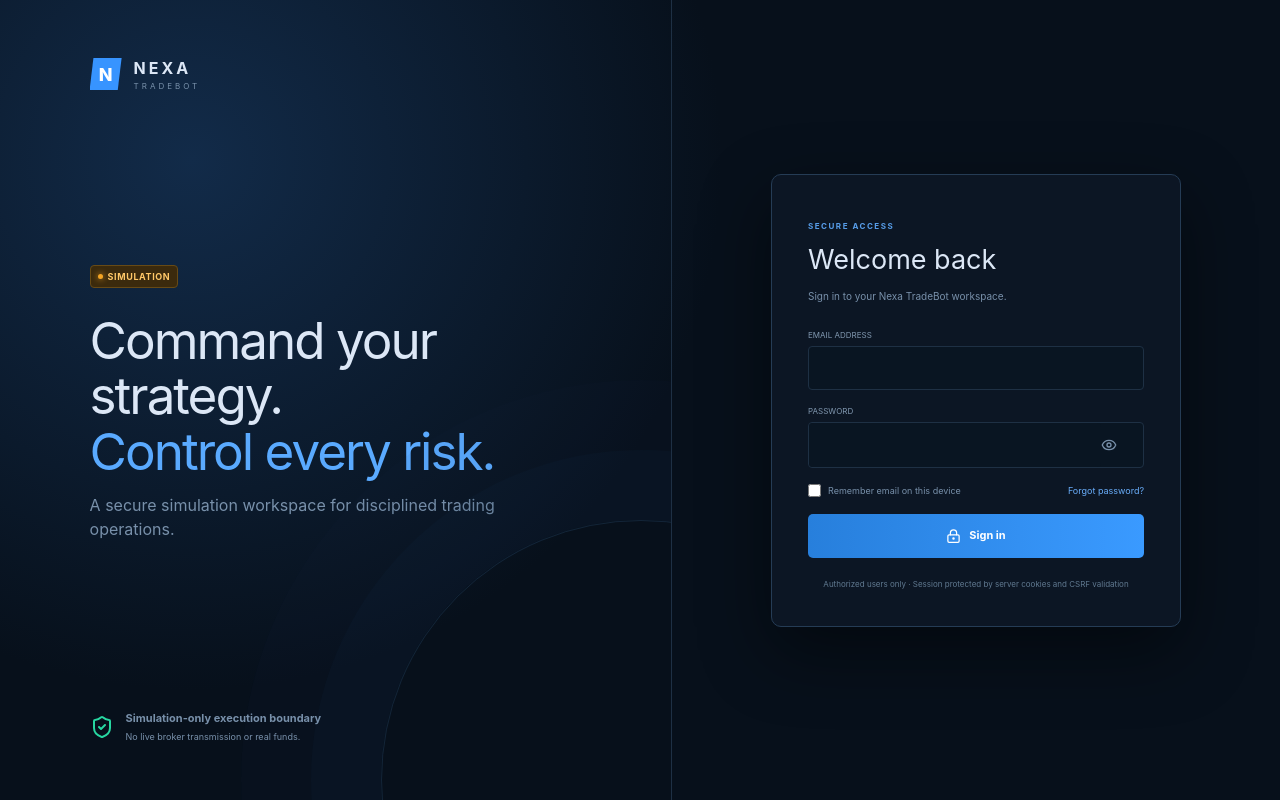
authentication routing › submits login credentials and renders backend validation errors
This screenshot has width=1280, height=800.
Expected: the heading "Welcome back" is shown, [808,242,996,276]
Type "wrong@nexa.local" into the field labelled "Email address" at (976, 368), box [808,346,1144,390]
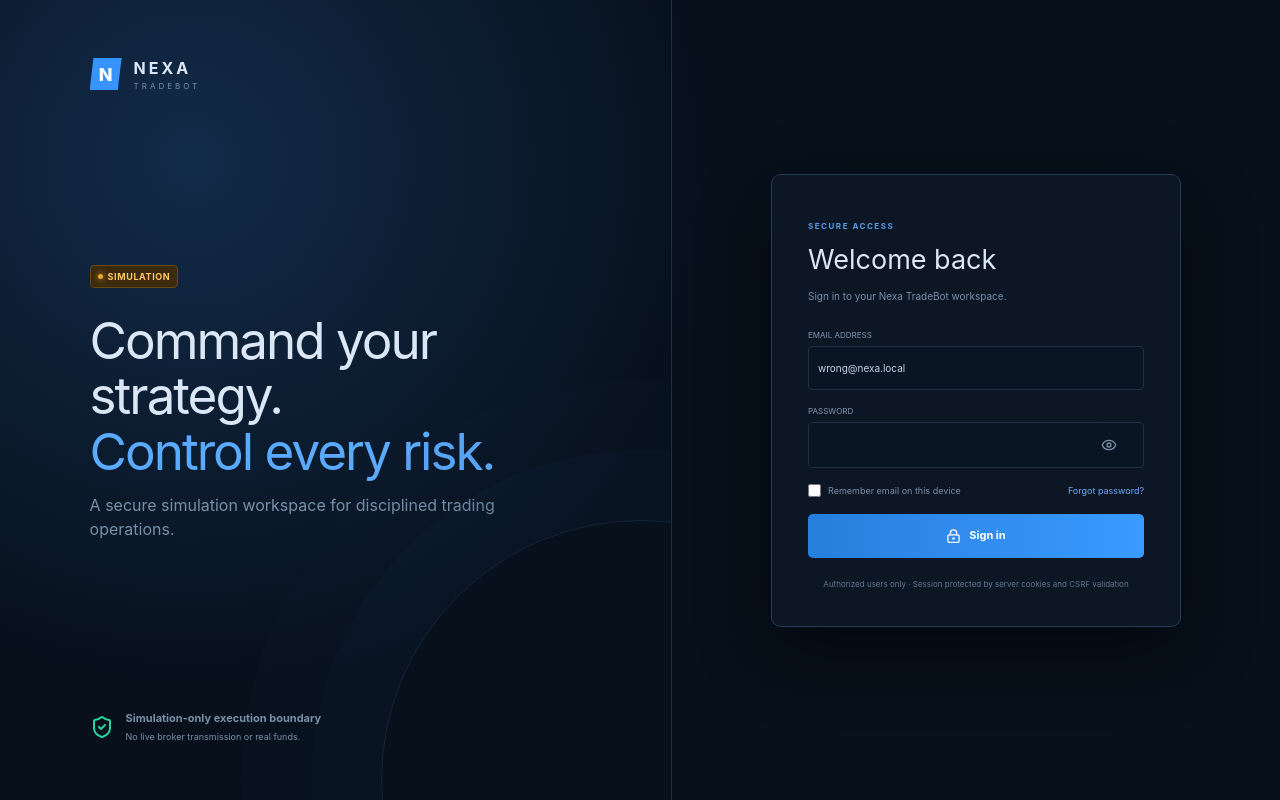
Type "incorrect" into the password field labelled "Password" at (955, 445), box [809,423,1101,467]
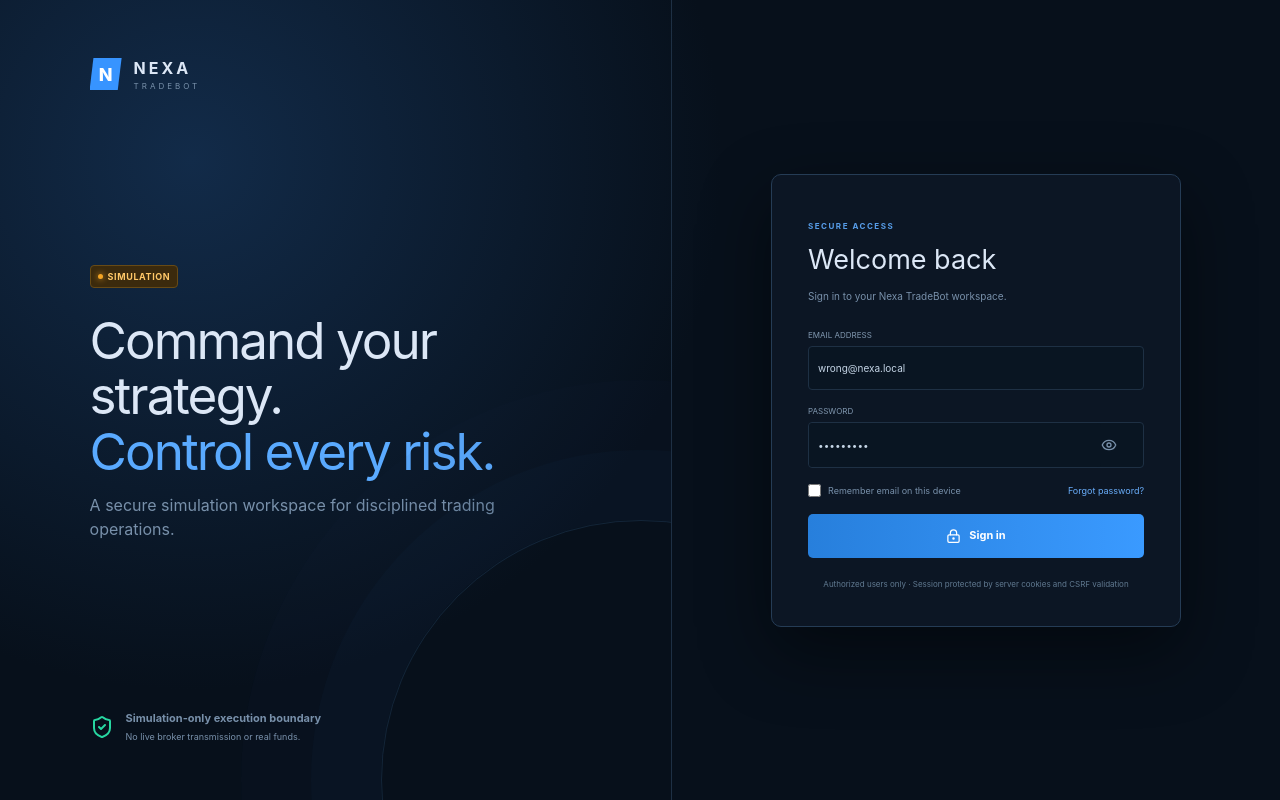
Click the button "Sign in" at (976, 536), box [808,514,1144,558]
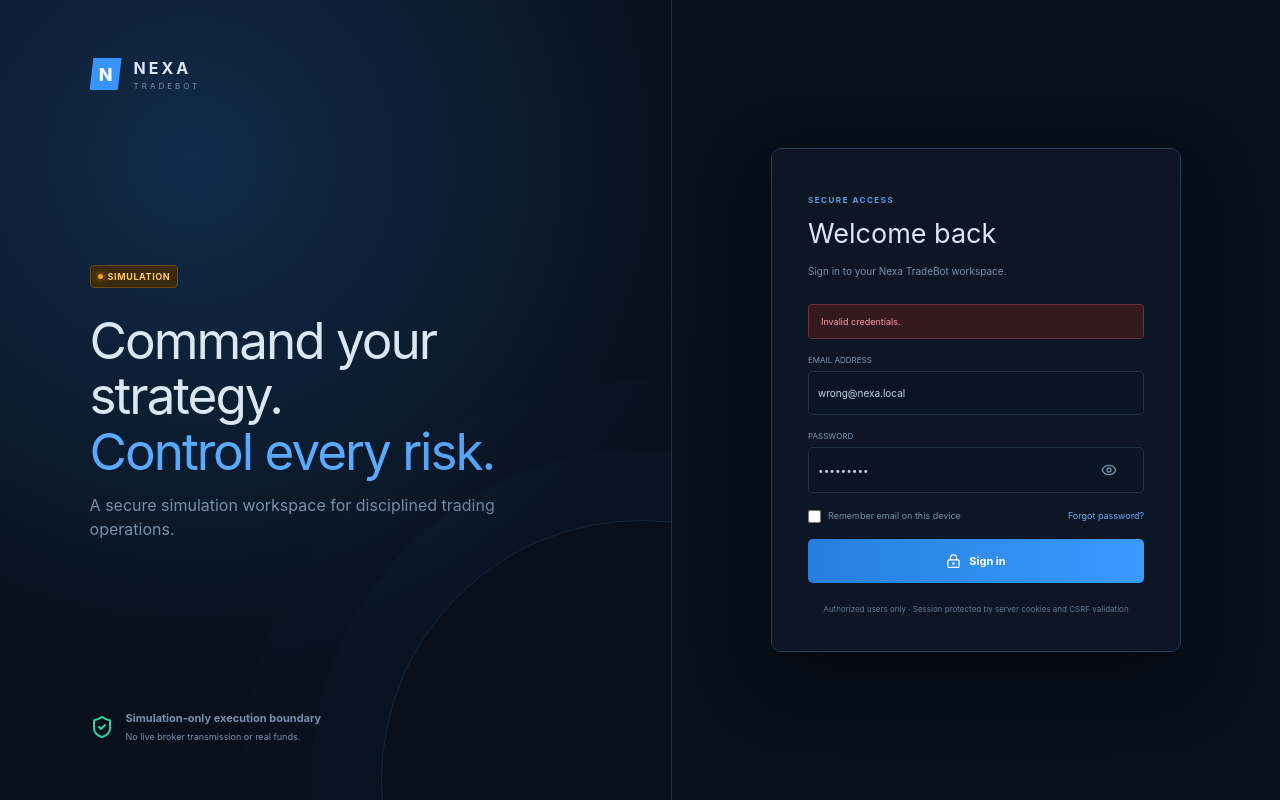
Result: the message reads "Invalid credentials." at [821,316,900,327]
